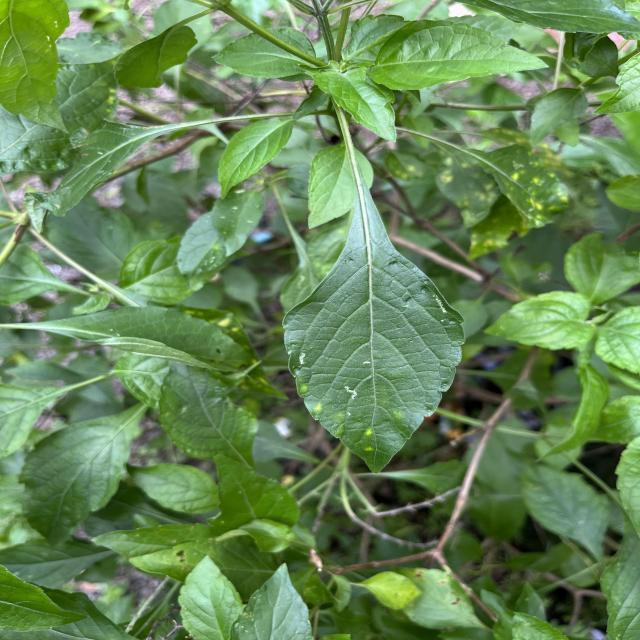Ocimum gratissimum: (278, 137, 473, 477), (356, 11, 554, 96), (304, 130, 377, 232), (216, 114, 299, 203), (310, 64, 400, 145)
